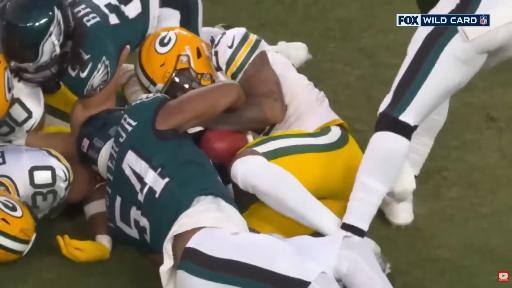Helmet: (0, 0, 72, 85), (136, 28, 214, 98), (77, 108, 124, 177), (0, 189, 35, 262), (0, 55, 13, 117)
Jersey: (107, 94, 234, 253), (212, 28, 339, 135), (61, 0, 159, 98), (0, 145, 73, 218), (0, 80, 44, 142)
Player: (78, 35, 390, 287), (79, 82, 391, 287), (343, 0, 511, 236), (187, 28, 362, 236), (0, 0, 202, 117), (0, 144, 103, 262), (0, 145, 73, 262), (0, 55, 13, 117)
